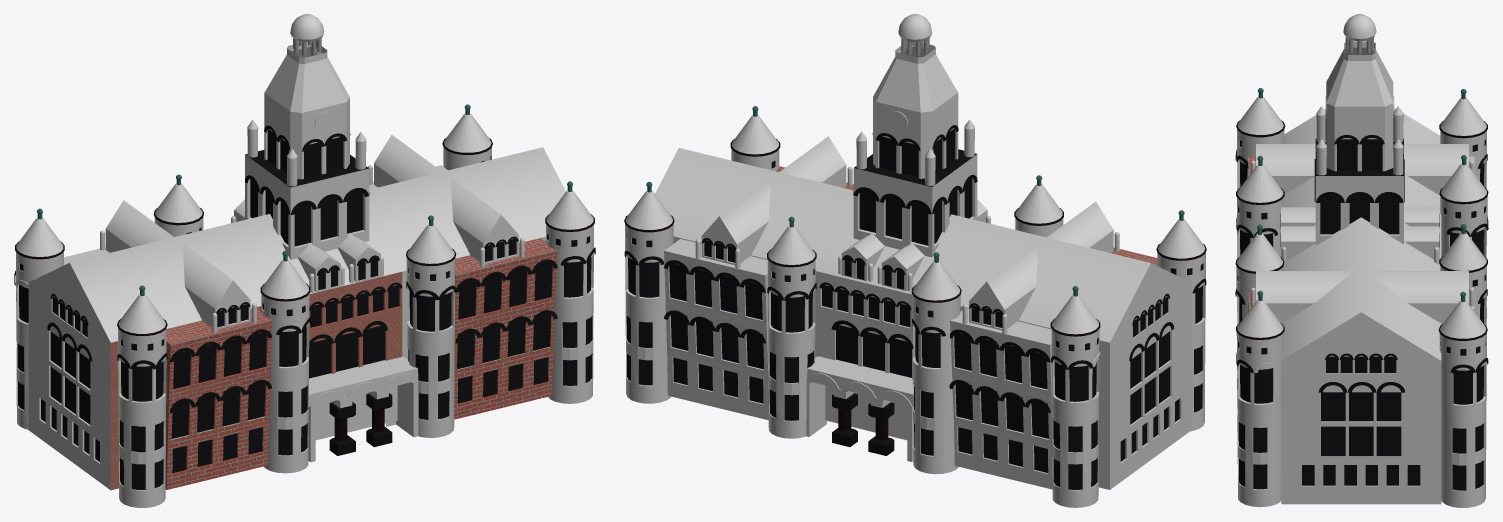
Rendered from Old Red Museum.FBX.
The picture shows the model from 3 angles, left to right: view 1: azimuth 30°, elevation 25°; view 2: azimuth 150°, elevation 25°; view 3: azimuth 270°, elevation 25°; orthographic projection. The views are drawn at different scales.
Parts seen in each view (by area): view 1: Object020, Group006, Group027, Box029, Box002, Windows, Windows001, Tower003, Tower002, Tower001, Tower, Box013 (+32 smaller); view 2: Object020, Group006, Group028, Box033, Box034, Windows002, Windows003, Tower007, Tower006, Tower004, Tower005, Box026 (+32 smaller); view 3: Group005, Object020, Tower004, Tower, Box025, Box022, Group016, Group014, Group017, Group007, Object046, Group015 (+36 smaller).
Boxes of the visible parts, x1,y1,x2,y2 form: Object020: (70,147,565,342); Group006: (28,263,110,489); Group027: (309,272,418,462); Box029: (165,309,271,489); Box002: (447,238,557,419); Windows: (457,263,552,403); Windows001: (171,333,266,473); Tower003: (118,328,166,507); Tower002: (261,293,309,473); Tower001: (406,258,455,437); Tower: (546,224,594,403); Box013: (296,52,348,179); Object020: (655,148,1150,342); Group006: (1110,263,1191,489); Group028: (806,272,913,461); Box033: (664,239,768,420); Box034: (950,309,1052,489); Windows002: (669,263,764,403); Windows003: (954,333,1048,472); Tower007: (1051,329,1099,507); Tower006: (912,294,960,474); Tower004: (625,224,673,403); Tower005: (767,259,815,438); Box026: (874,51,926,178); Group005: (1281,312,1441,504); Object020: (1281,108,1441,360); Tower004: (1439,332,1486,507); Tower: (1237,332,1283,507); Box025: (1330,54,1388,171); Box022: (1315,176,1403,245); Group016: (1369,271,1468,303); Group014: (1256,271,1353,303); Group017: (1440,342,1485,490); Group007: (1238,341,1272,489); Object046: (1320,195,1399,234); Group015: (1404,144,1468,175).
Size of the model in its own units: 8582 by 6791 by 4079.
